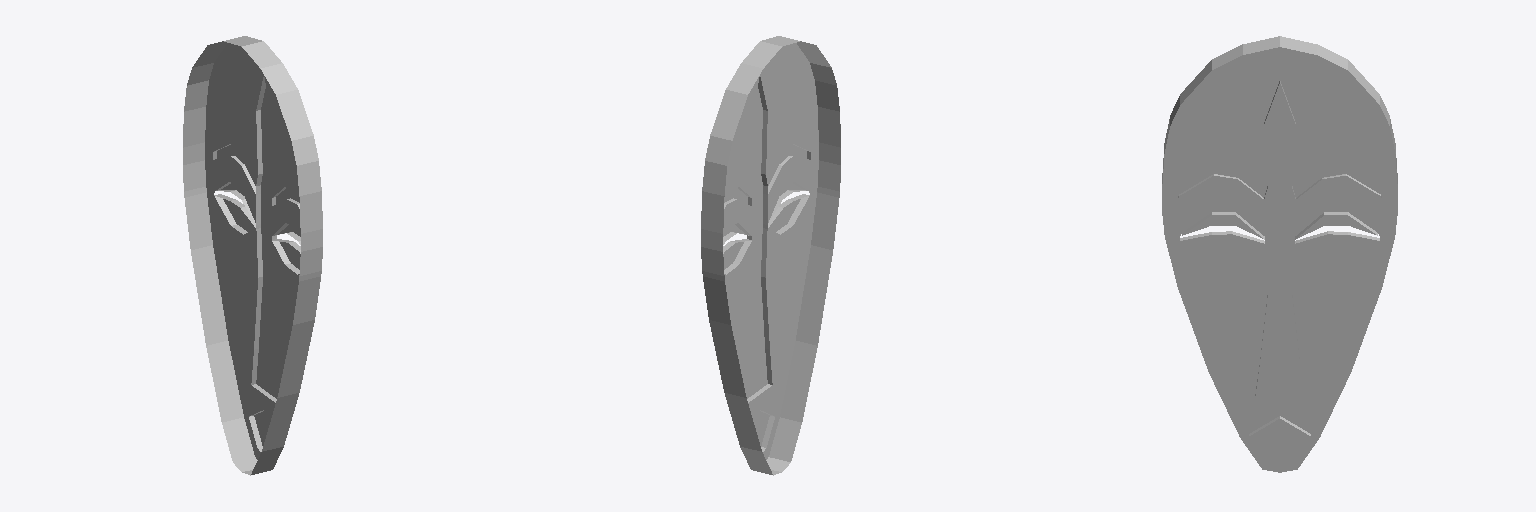
File: Mask1_Mesh.obj
The picture shows the model from 3 angles: view 1: azimuth 30°, elevation 25°; view 2: azimuth 150°, elevation 25°; view 3: azimuth 270°, elevation 25°; orthographic projection.
Visible parts, largest first — view 1: Mask2; view 2: Mask2; view 3: Mask2.
Boxes of the visible parts, x1=… form: Mask2: x1=183, y1=36, x2=322, y2=475; Mask2: x1=701, y1=36, x2=840, y2=475; Mask2: x1=1162, y1=36, x2=1397, y2=472.
Size of the model in its own units: 1.37 by 19.48 by 9.8.